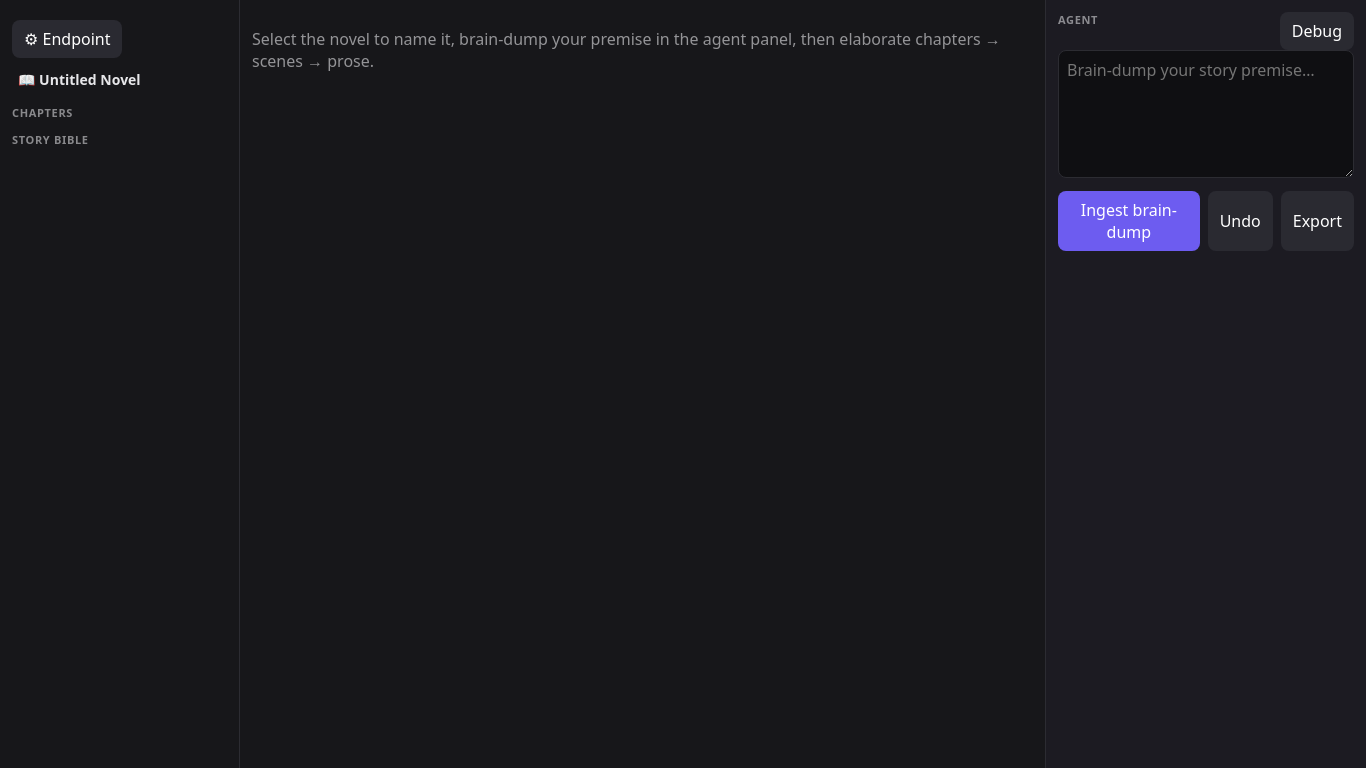
App refinements › opens the novel editor and toggles the debug panel
Click the text "📖 Untitled Novel": (29, 80) [18,70,141,89]
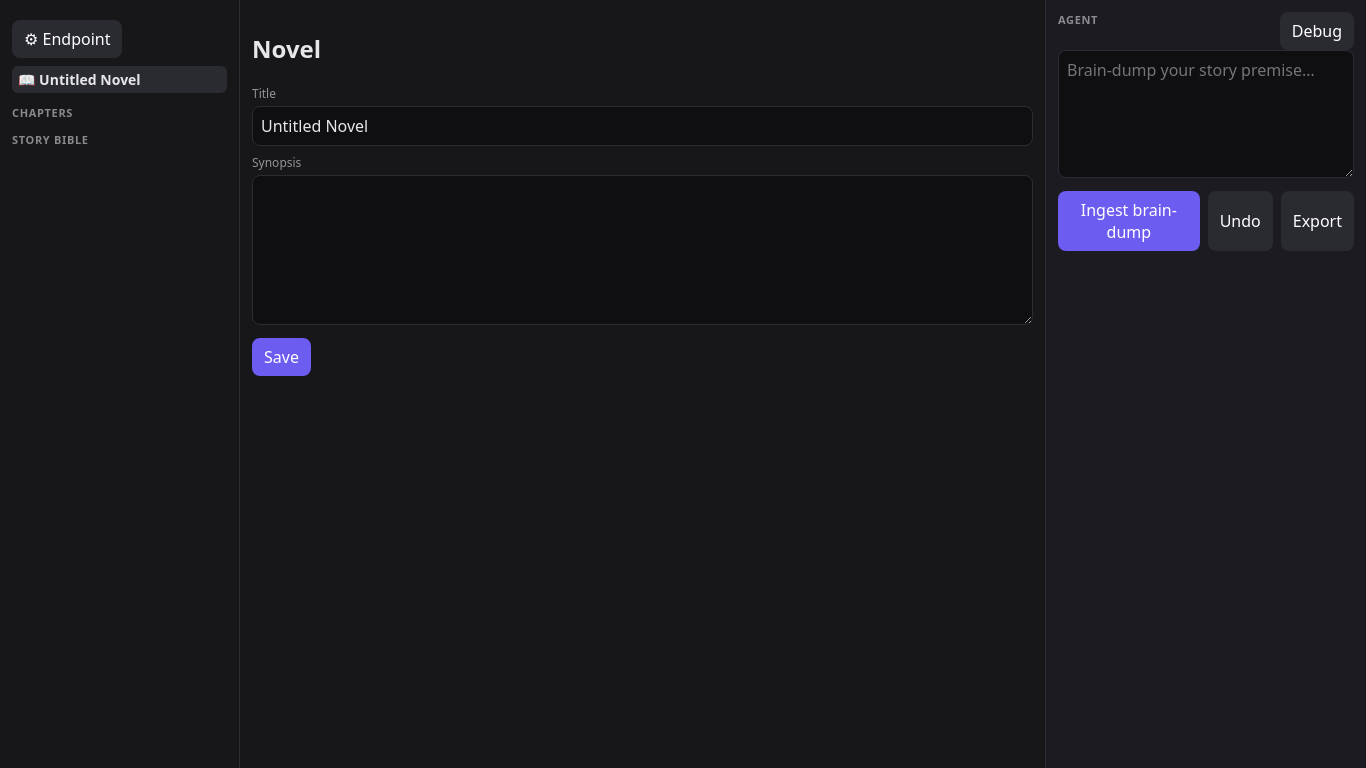
Expected: the heading "Novel" is shown, [252,32,321,65]
Expected: the text "Title" is shown, [252,85,276,102]
Expected: the text "Synopsis" is shown, [252,154,301,171]
Click the button "Debug": (1317, 31) [1280,12,1354,50]
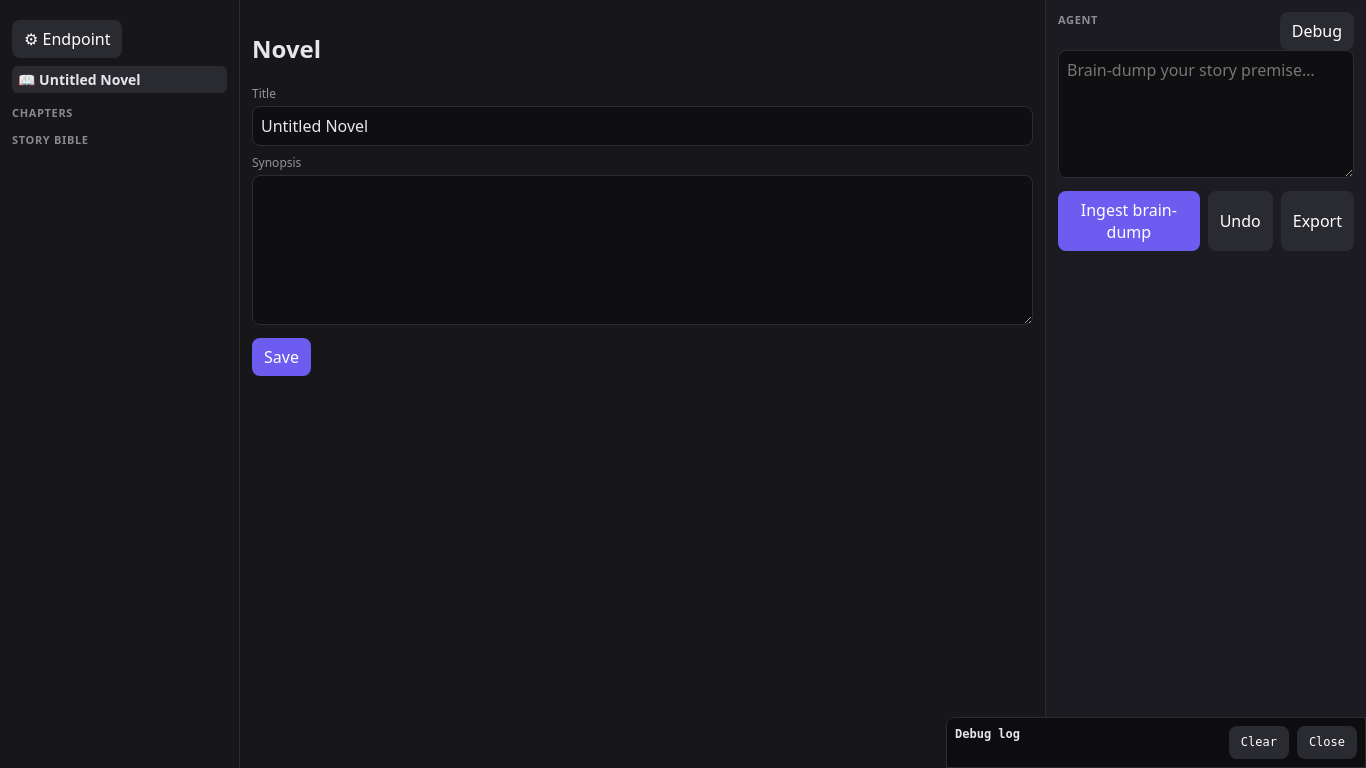
Expected: the text "Debug log" is shown, [955,727,1020,741]
